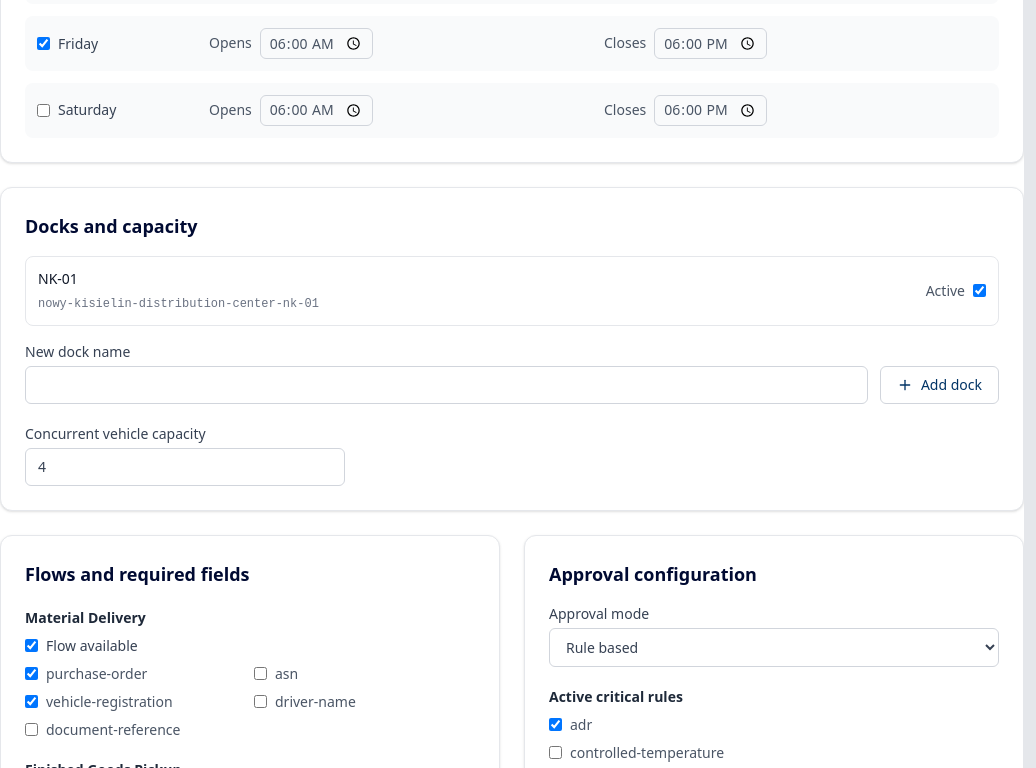
Test: WarehouseConfigurationPage › adds a dock and reasoned block, then publishes auditable local configuration
The image size is (1036, 768).
(page scrolled)
Type "NK-02" into the field labelled "New dock name". click: (446, 385)
box: [25,366,868,404]
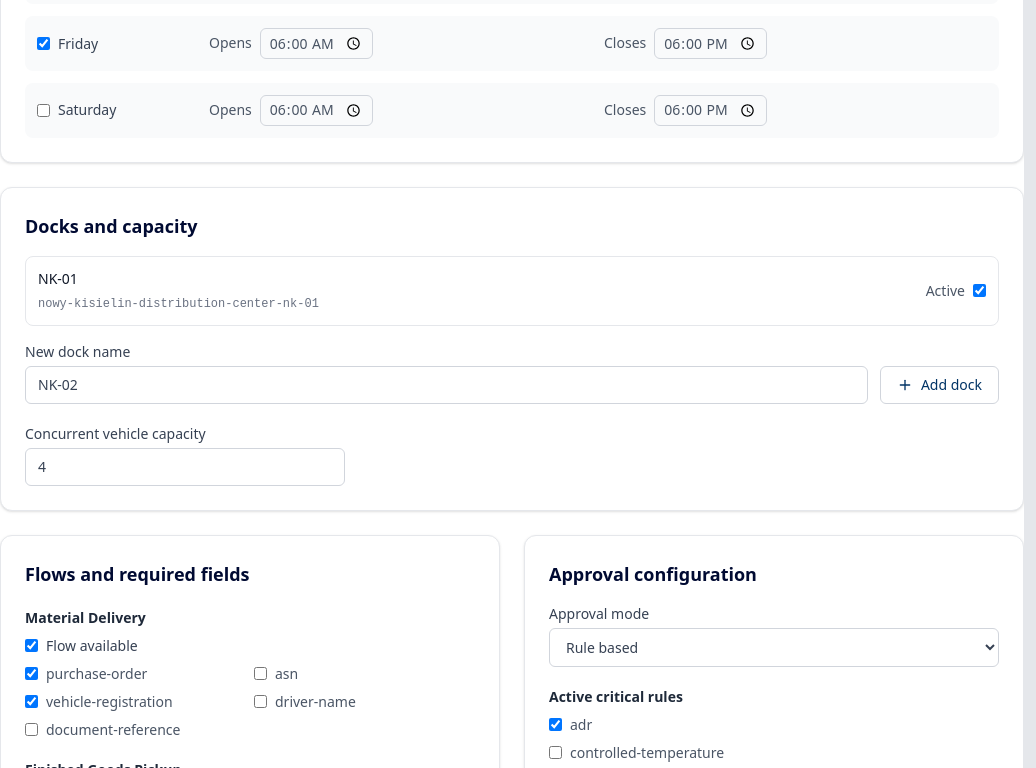
Click the button "Add dock". click: (939, 385)
box: [880,366,999,404]
(page scrolled)
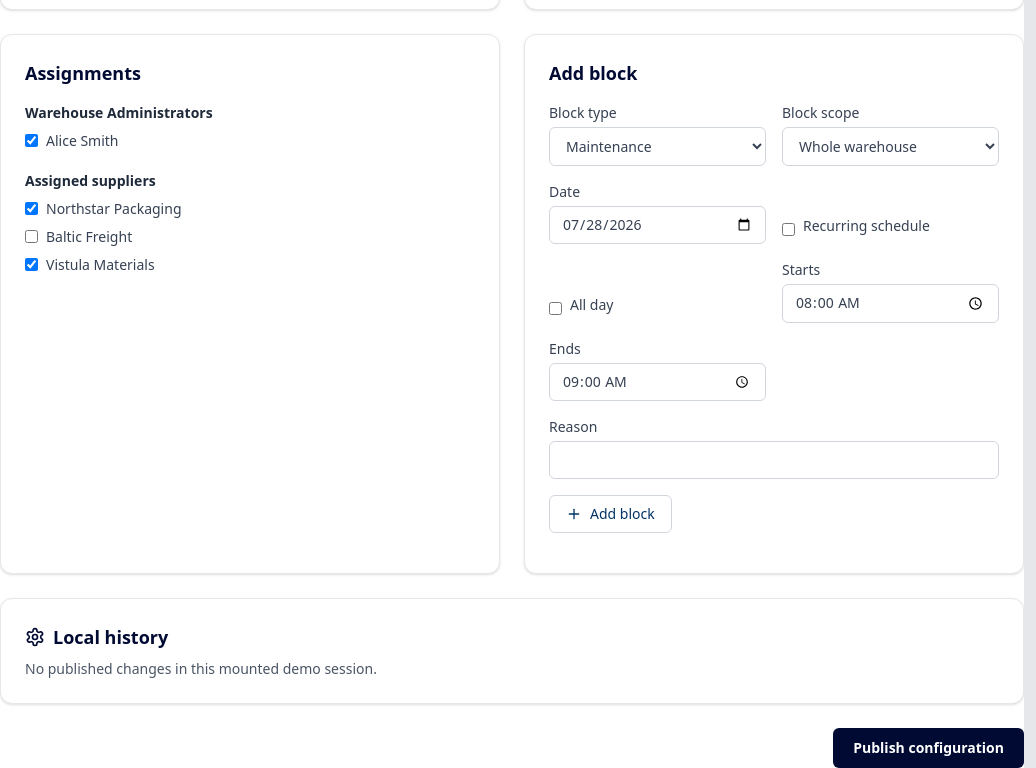
Type "Dock leveller inspection" into the field labelled "Reason". click: (774, 460)
box: [549,441,999,479]
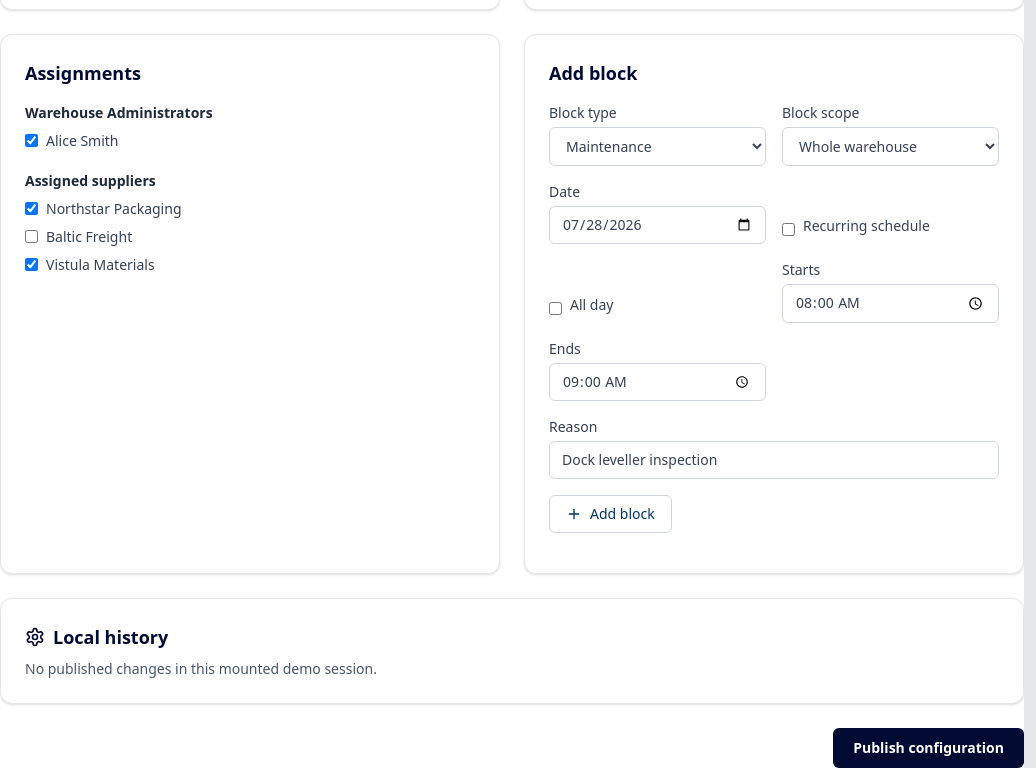
Click the button "Add block". click: (610, 514)
box: [549,495,672,533]
(page scrolled)
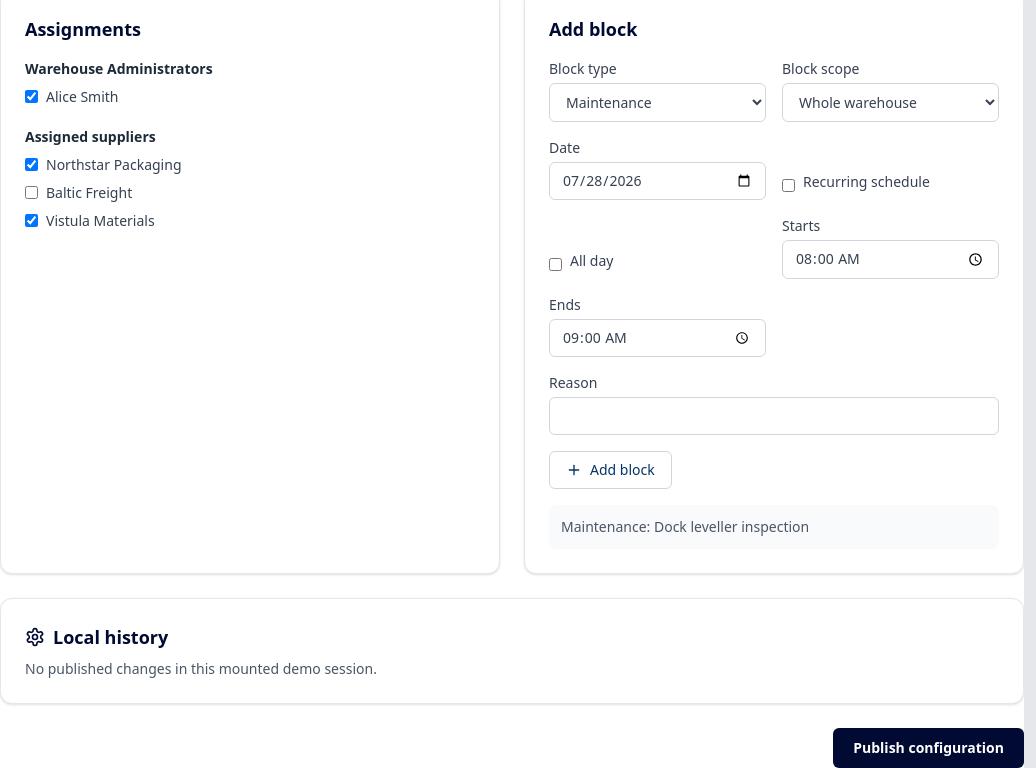
Expected: the list item "Maintenance: Dock leveller inspection" is shown, [549,505,999,549]
Click the button "Publish configuration". click: (929, 748)
box: [833,728,1024,767]
(page scrolled)
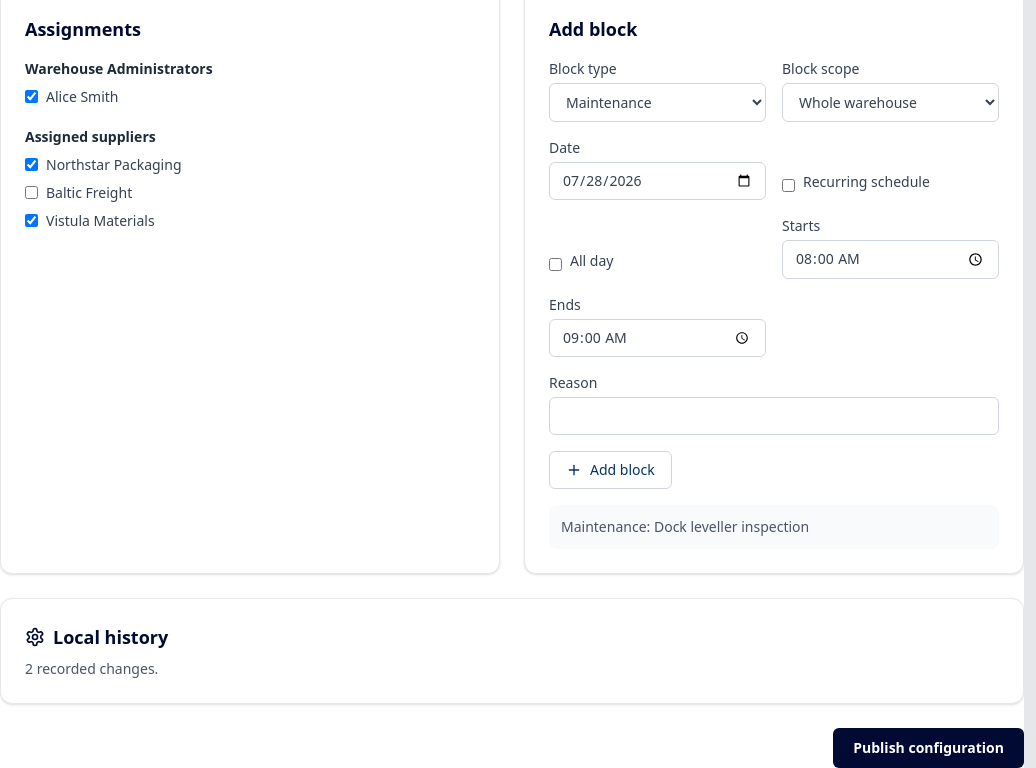
Expected: the text "2 recorded changes." is shown, [25,659,158,678]
